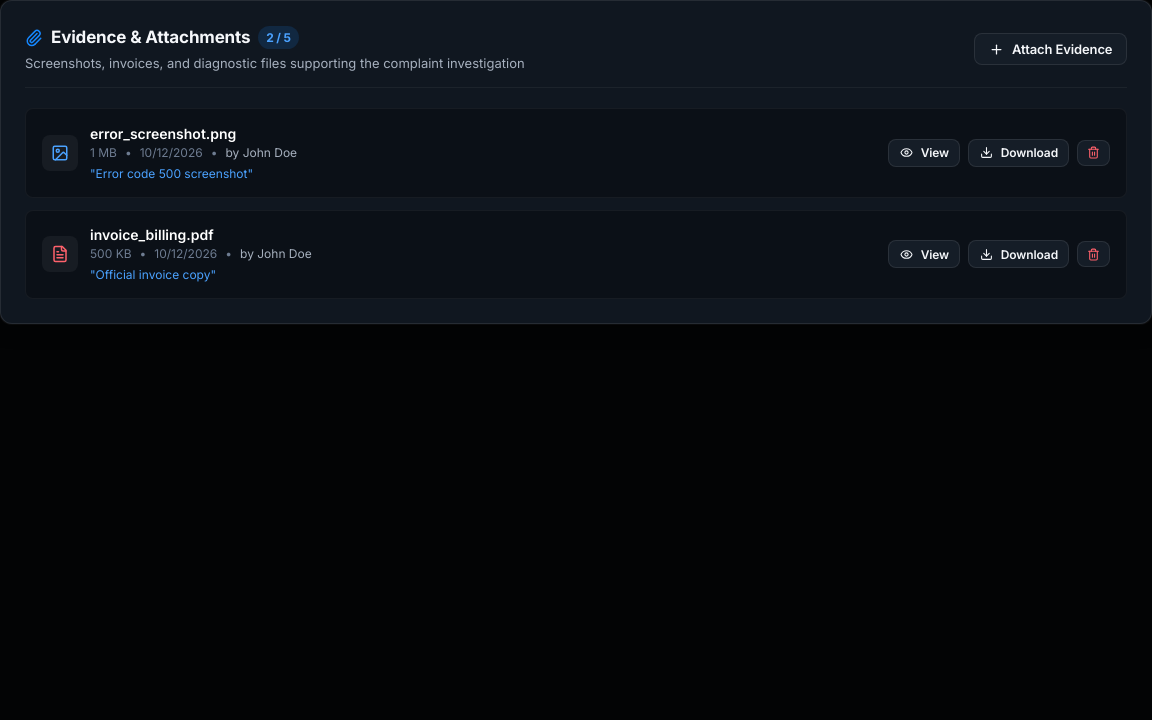
Test: Frontend Evidence & Attachments Component Tests › opens authenticated image preview modal when clicking view button
Step 1. Click the button "View" in the row of "error_screenshot.png" → (924, 153), box [888,139,960,167]
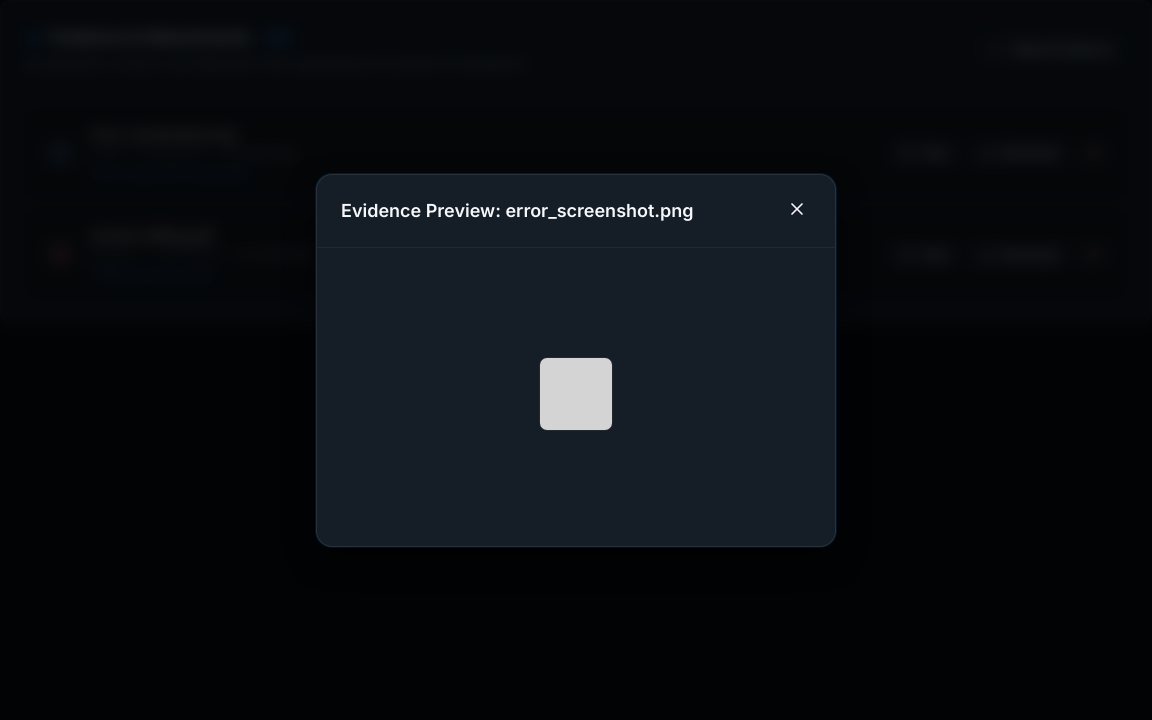
Expected: the heading "Evidence Preview: error_screenshot.png" is shown, [341,197,694,224]
